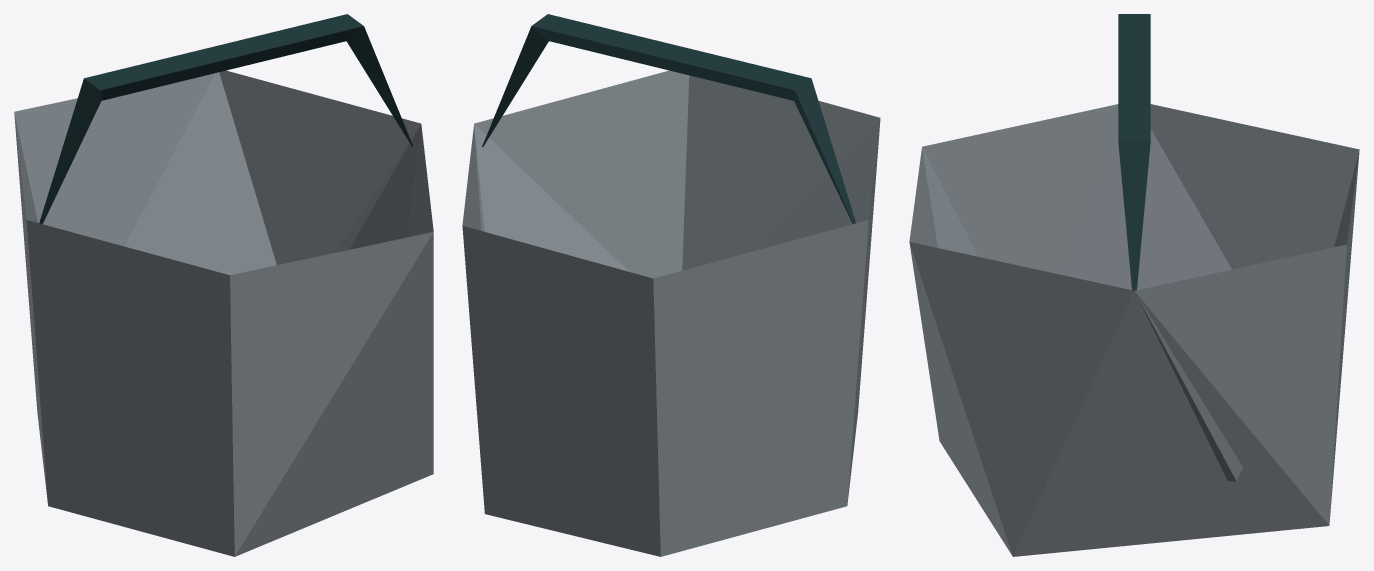
The model's file is feed_bucket.fbx.
3 views of the same model, side by side, from view 1: azimuth 30°, elevation 25°; view 2: azimuth 150°, elevation 25°; view 3: azimuth 270°, elevation 25° (orthographic).
Visible parts, largest first — view 1: feed_bucket; view 2: feed_bucket; view 3: feed_bucket.
Boxes of the visible parts, bbox=[...] form: feed_bucket: bbox=[14, 14, 433, 556]; feed_bucket: bbox=[462, 14, 880, 556]; feed_bucket: bbox=[909, 14, 1359, 556].
Size of the model in its own units: 0.35 by 0.35 by 0.35.
